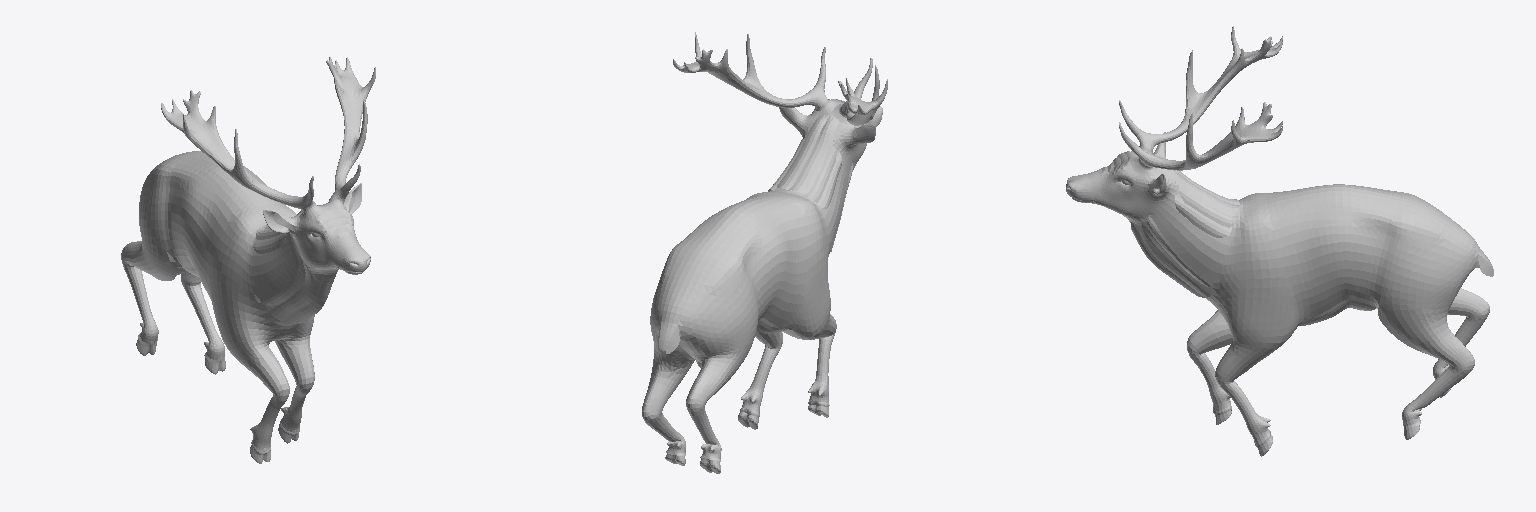
The model's file is frame_0017_uv.obj.
3 views of the same model, side by side, from view 1: azimuth 30°, elevation 25°; view 2: azimuth 150°, elevation 25°; view 3: azimuth 270°, elevation 25° (orthographic).
Visible parts, largest first — view 1: pMesh1; view 2: pMesh1; view 3: pMesh1.
Part boxes in pixels (bbox=[...]): pMesh1: bbox=[121, 57, 375, 463]; pMesh1: bbox=[642, 32, 887, 473]; pMesh1: bbox=[1066, 26, 1493, 456].
Size of the model in its own units: 1.05 by 1.93 by 2.02.